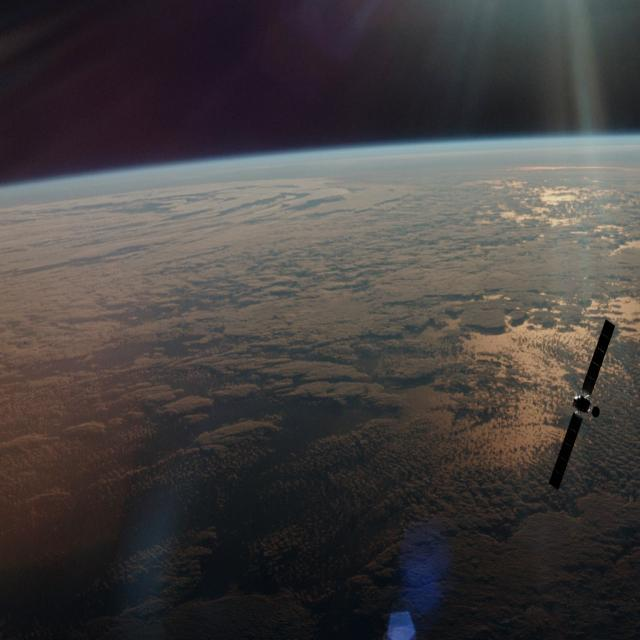medium_debris: (542, 321, 620, 503)
